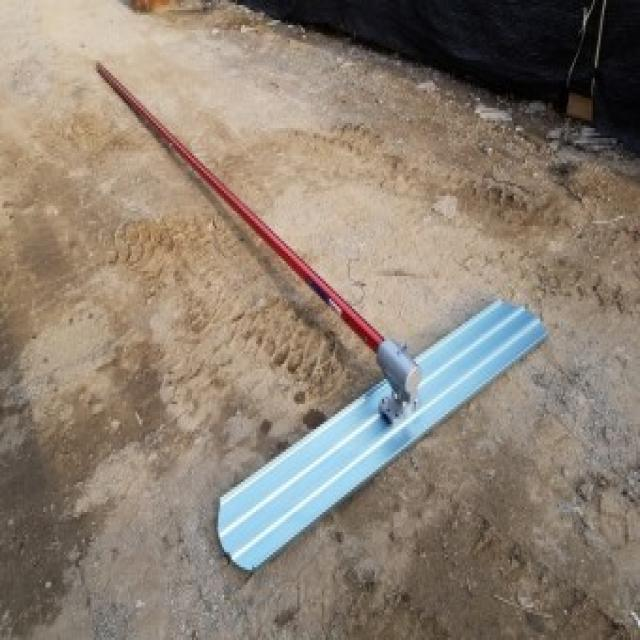long handle float: (94, 59, 549, 573)
